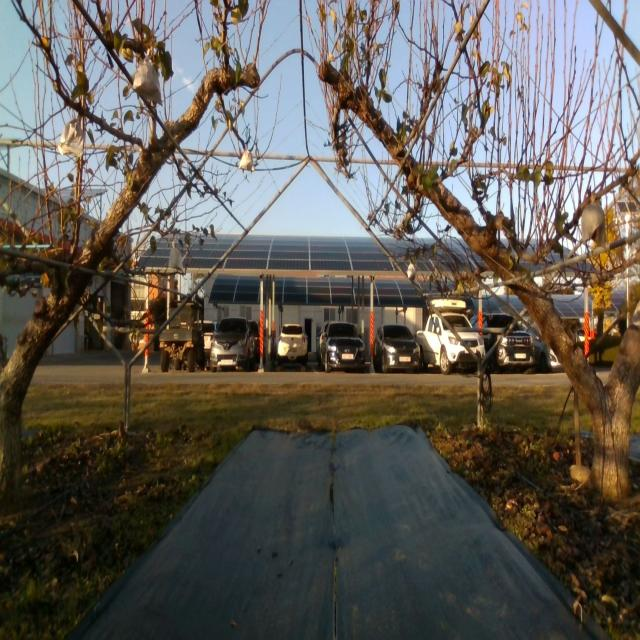pearbags: (133, 57, 162, 106), (582, 204, 606, 247), (58, 118, 83, 158), (168, 248, 184, 274), (238, 150, 254, 172)
